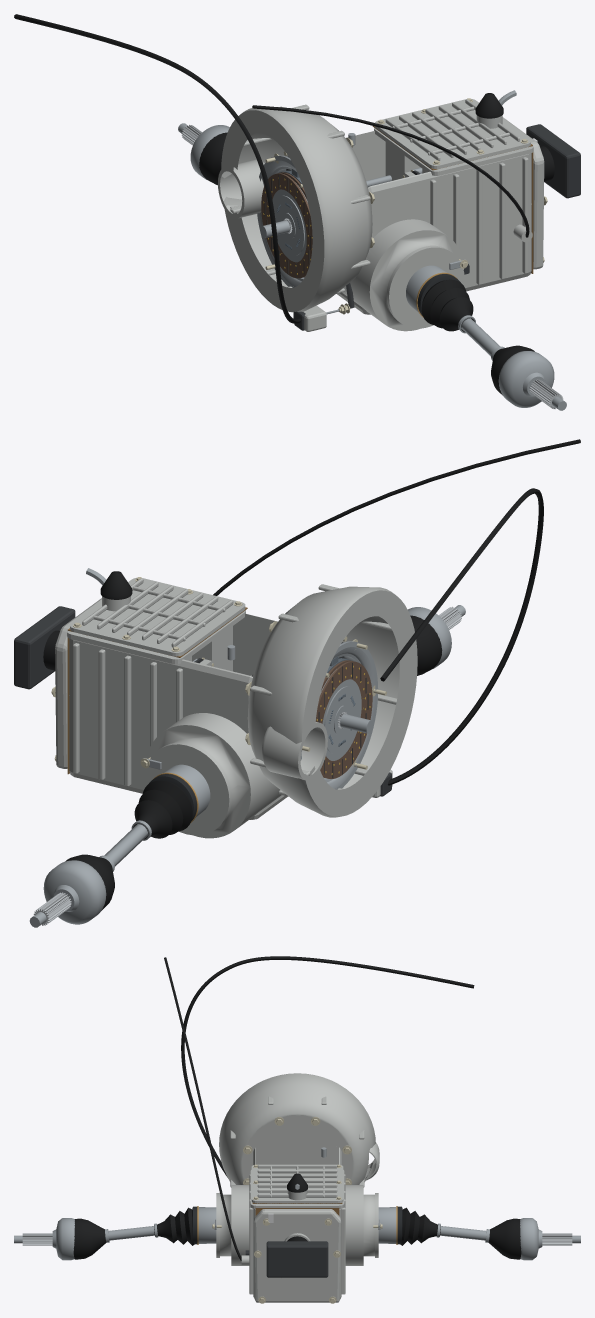
Rendered from transmission.glb.
The picture shows the model from 3 angles, top to bottom: view 1: azimuth 30°, elevation 25°; view 2: azimuth 150°, elevation 25°; view 3: azimuth 270°, elevation 25°; orthographic projection. The views are drawn at different scales.
Parts seen in each view (by area): view 1: boite.alu-coule, carter-embrayage.alu-coule, couvercle-boite.alu-coule, transmissions.acier, transmissions.caoutchouc, cable-embrayage.noir, disque-embrayage.garniture, boite.acier-noirci, disque-embrayage.acier, couvercle-avant-boite.alu-coule, boite.noir, embrayage.acier (+2 smaller); view 2: boite.alu-coule, carter-embrayage.alu-coule, couvercle-boite.alu-coule, transmissions.acier, transmissions.caoutchouc, cable-embrayage.noir, boite.acier-noirci, disque-embrayage.garniture, disque-embrayage.acier, couvercle-avant-boite.alu-coule, boite.noir, embrayage.acier (+2 smaller); view 3: carter-embrayage.alu-coule, boite.alu-coule, couvercle-avant-boite.alu-coule, transmissions.acier, transmissions.caoutchouc, couvercle-boite.alu-coule, boite.acier-noirci, cable-embrayage.noir, boite.noir, transmissions.acier-taille.
Boxes of the visible parts, left/top/right/bottom form: boite.alu-coule: left=337, top=127, right=533, bottom=331; carter-embrayage.alu-coule: left=218, top=104, right=372, bottom=331; couvercle-boite.alu-coule: left=374, top=99, right=530, bottom=168; transmissions.acier: left=178, top=123, right=566, bottom=410; transmissions.caoutchouc: left=199, top=132, right=534, bottom=395; cable-embrayage.noir: left=14, top=14, right=300, bottom=323; disque-embrayage.garniture: left=261, top=172, right=312, bottom=278; boite.acier-noirci: left=526, top=124, right=580, bottom=198; disque-embrayage.acier: left=272, top=182, right=307, bottom=262; couvercle-avant-boite.alu-coule: left=502, top=117, right=544, bottom=269; boite.noir: left=252, top=105, right=529, bottom=237; embrayage.acier: left=257, top=155, right=304, bottom=287; boite.alu-coule: left=67, top=610, right=287, bottom=838; carter-embrayage.alu-coule: left=247, top=584, right=417, bottom=817; couvercle-boite.alu-coule: left=70, top=577, right=245, bottom=656; transmissions.acier: left=29, top=605, right=465, bottom=927; transmissions.caoutchouc: left=65, top=615, right=442, bottom=910; cable-embrayage.noir: left=380, top=488, right=543, bottom=785; boite.acier-noirci: left=14, top=606, right=75, bottom=689; disque-embrayage.garniture: left=315, top=660, right=372, bottom=778; disque-embrayage.acier: left=320, top=669, right=361, bottom=760; couvercle-avant-boite.alu-coule: left=55, top=598, right=101, bottom=768; boite.noir: left=213, top=439, right=580, bottom=595; embrayage.acier: left=300, top=641, right=378, bottom=789; carter-embrayage.alu-coule: left=219, top=1073, right=379, bottom=1187; boite.alu-coule: left=216, top=1146, right=378, bottom=1299; couvercle-avant-boite.alu-coule: left=253, top=1209, right=341, bottom=1302; transmissions.acier: left=14, top=1207, right=580, bottom=1260; transmissions.caoutchouc: left=73, top=1207, right=521, bottom=1259; couvercle-boite.alu-coule: left=251, top=1164, right=343, bottom=1203; boite.acier-noirci: left=266, top=1241, right=328, bottom=1277; cable-embrayage.noir: left=181, top=956, right=474, bottom=1177; boite.noir: left=164, top=957, right=241, bottom=1260; transmissions.acier-taille: left=22, top=1233, right=572, bottom=1245.
Size of the model in its own units: 0.8391 by 0.5821 by 1.29.
